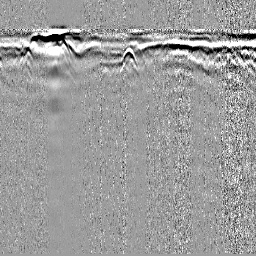cavity: (120, 46, 139, 68)
